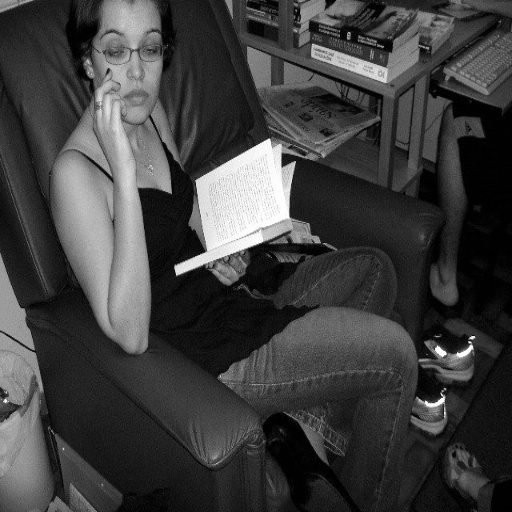hand: (92, 66, 123, 169), (204, 248, 251, 288)
